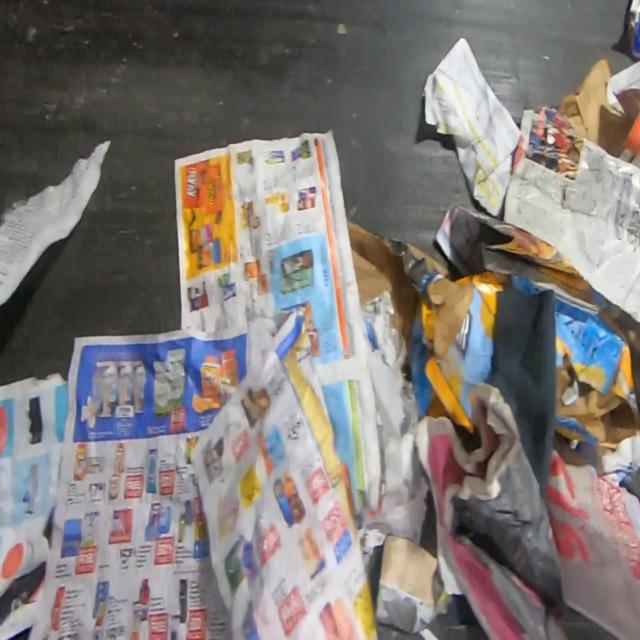cardboard: (407, 268, 640, 451), (347, 218, 453, 378), (556, 55, 639, 157)
